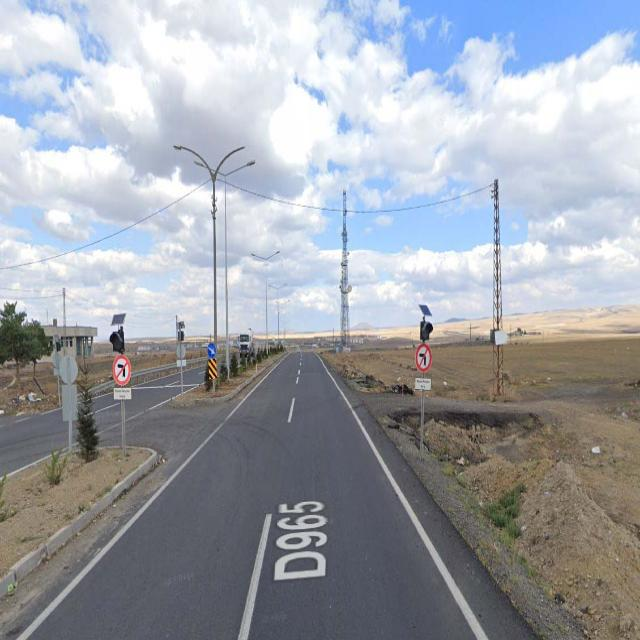soladonulmez: (112, 356, 130, 385), (416, 344, 431, 372)
